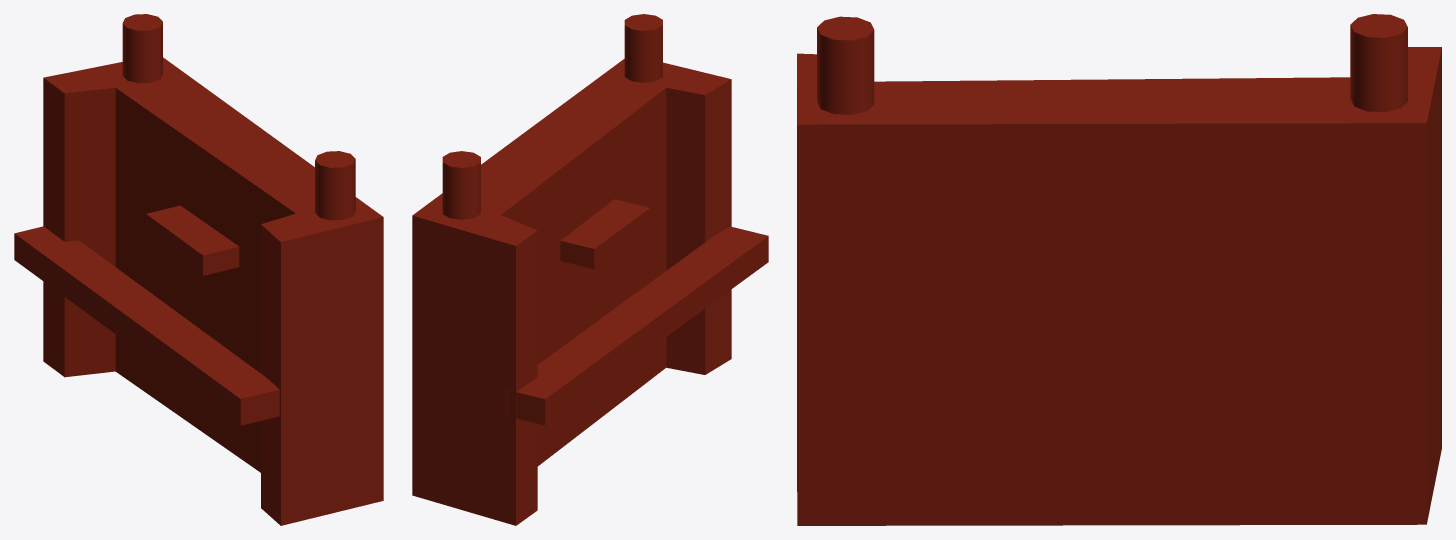
Rendered from vs-fortress-ladder.glb.
3 views of the same model, side by side, from view 1: azimuth 30°, elevation 25°; view 2: azimuth 150°, elevation 25°; view 3: azimuth 270°, elevation 25° (orthographic). The views are drawn at different scales.
Visible parts, largest first — view 1: VsFortressLadder; view 2: VsFortressLadder; view 3: VsFortressLadder.
Boxes of the visible parts, x1,y1,x2,y2 form: VsFortressLadder: (14,14,383,525); VsFortressLadder: (412,14,768,525); VsFortressLadder: (797,14,1441,525).
Bounding box in the file's own units: 0.3649 × 0.8275 × 1.02.
